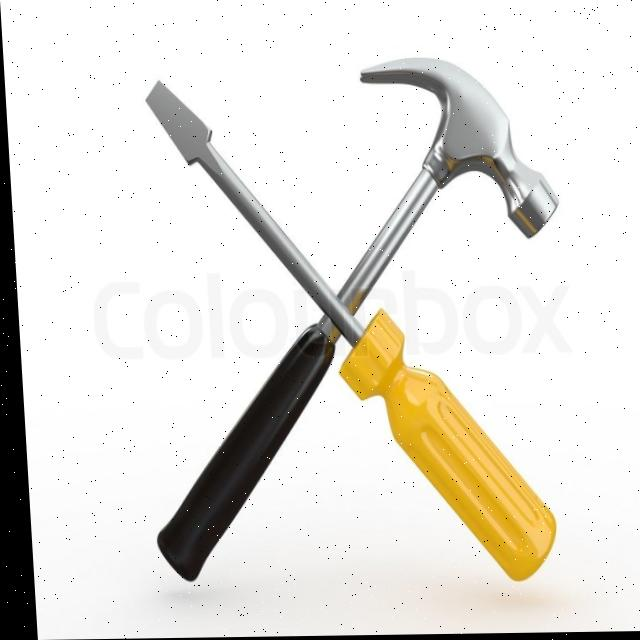Screwdriver: (143, 80, 552, 586)
